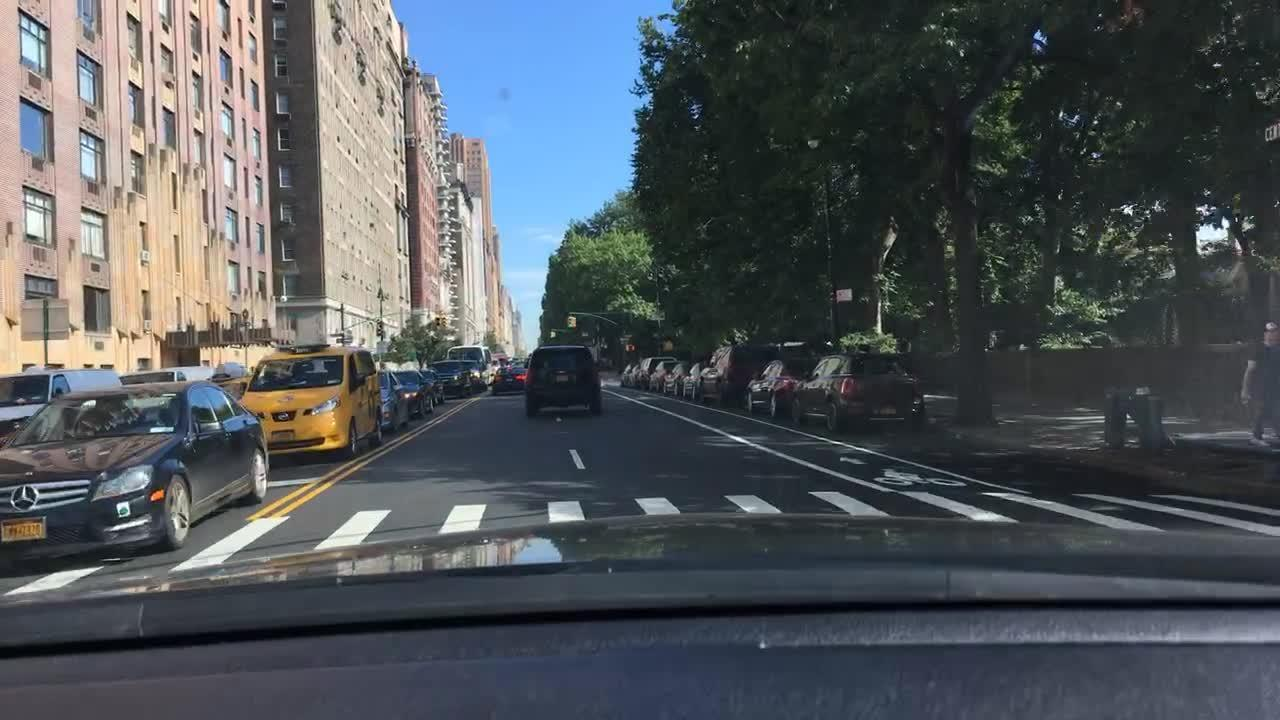Mercedes: (3, 479, 48, 521)
